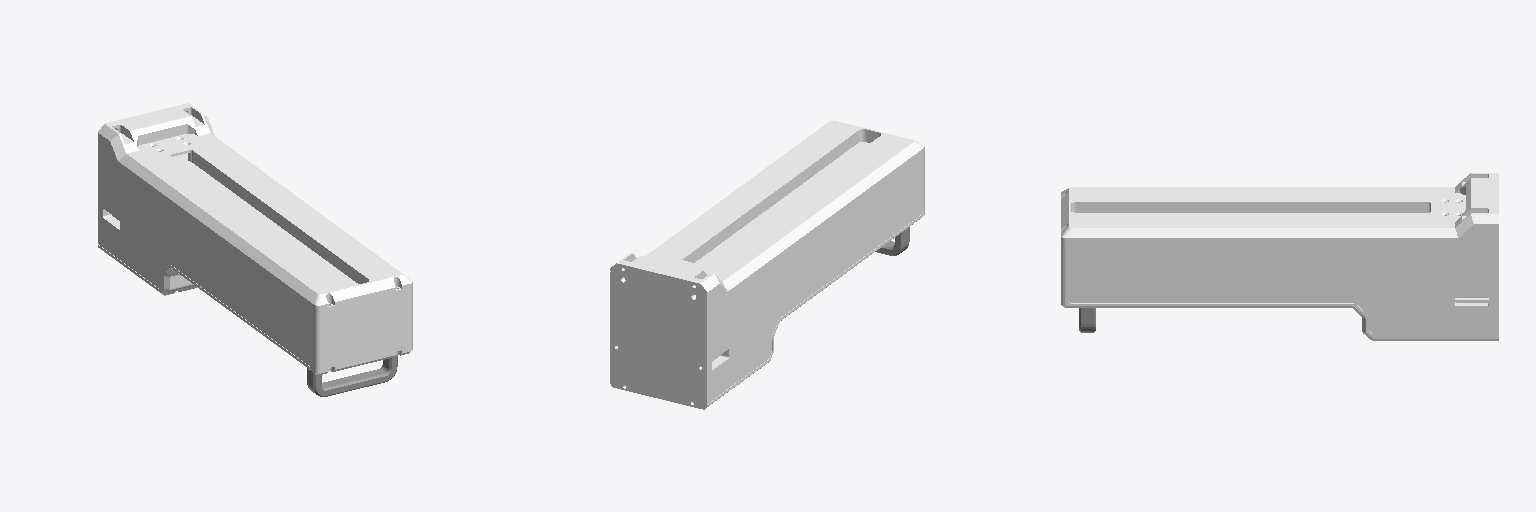
The model's file is column.obj.
3 renders of one model, left to right at view 1: azimuth 30°, elevation 25°; view 2: azimuth 150°, elevation 25°; view 3: azimuth 270°, elevation 25°, orthographic.
Size of the model in its own units: 0.116 by 0.142 by 0.45.